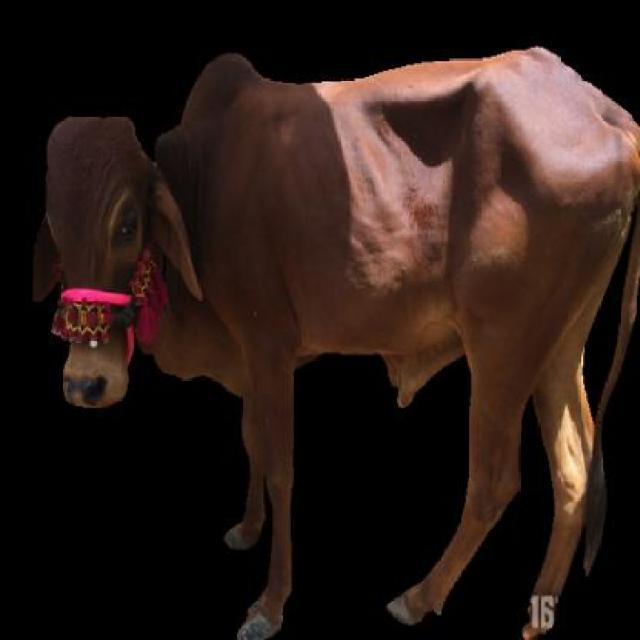Cow: (34, 39, 638, 638)
